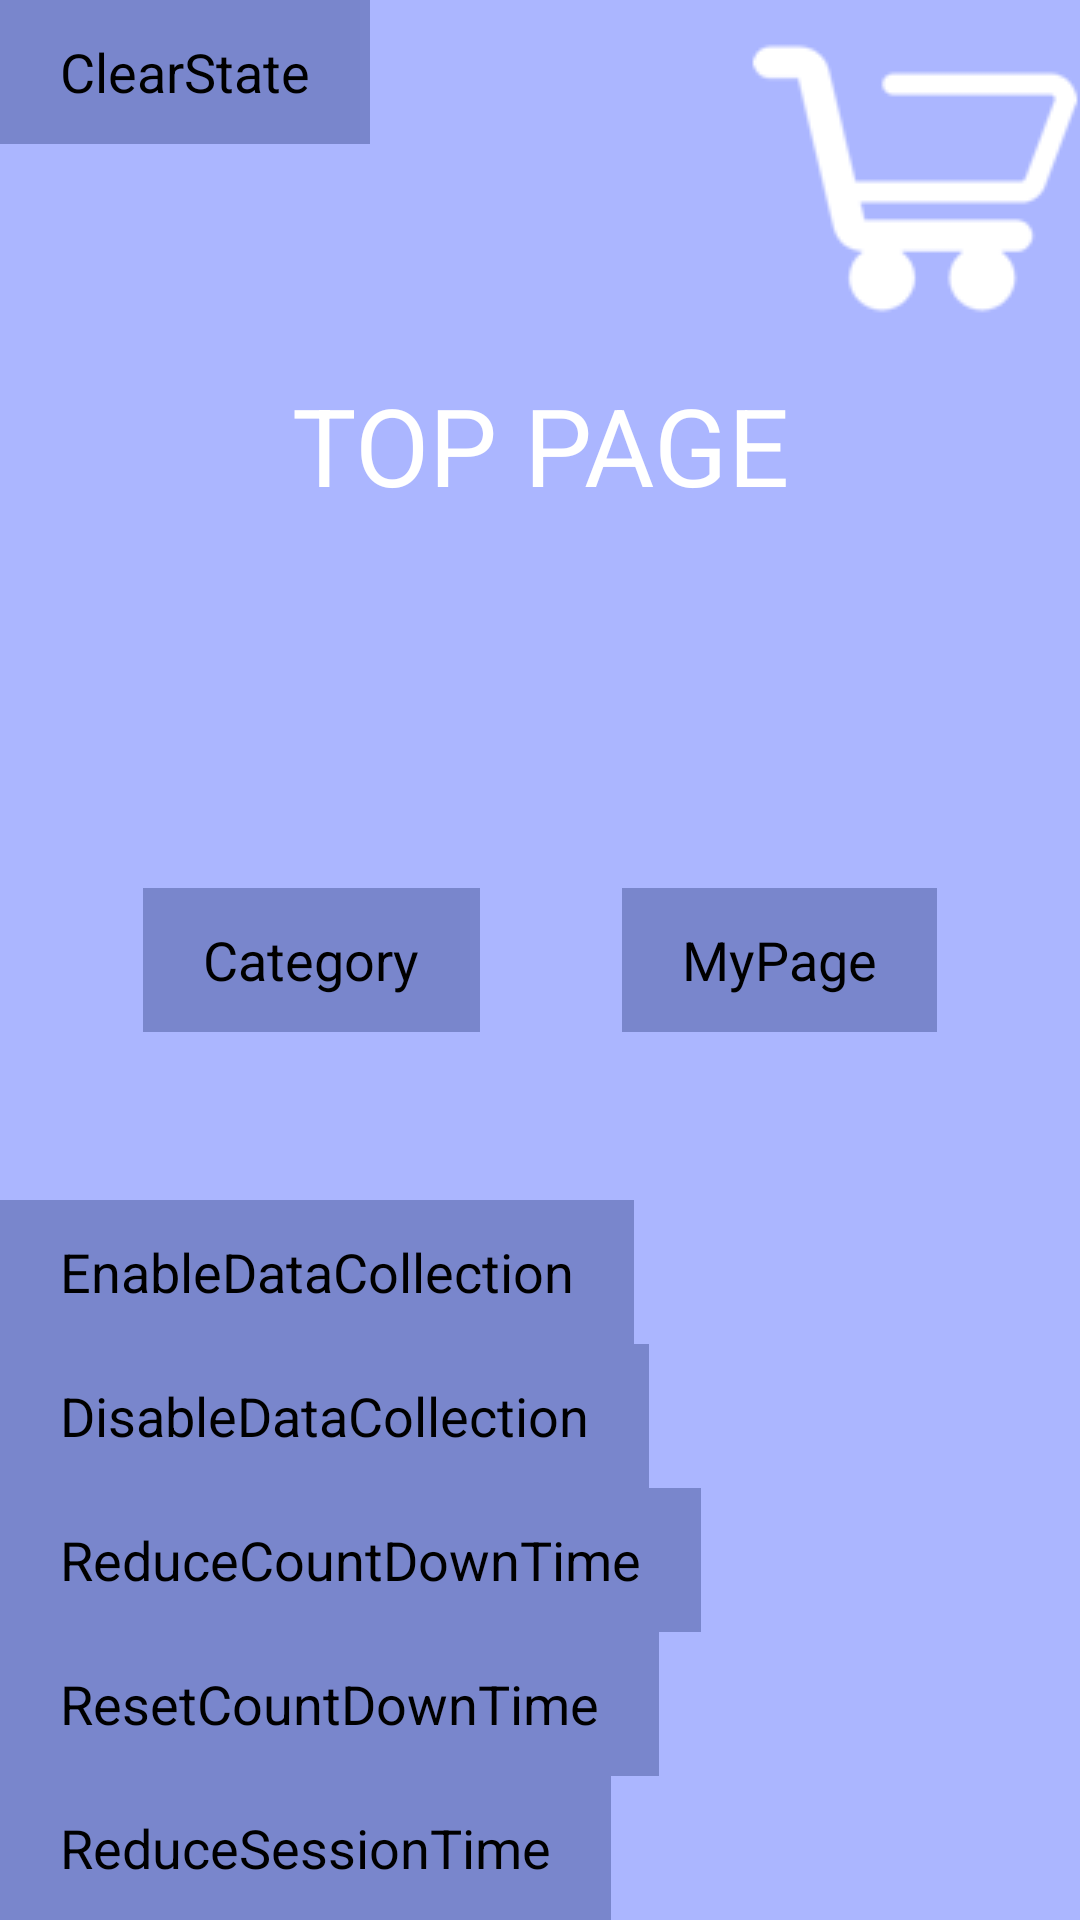

Where to tap for icons on this 1080 × 1920 app screen, as point (x, y):
cart: point (915, 178)
